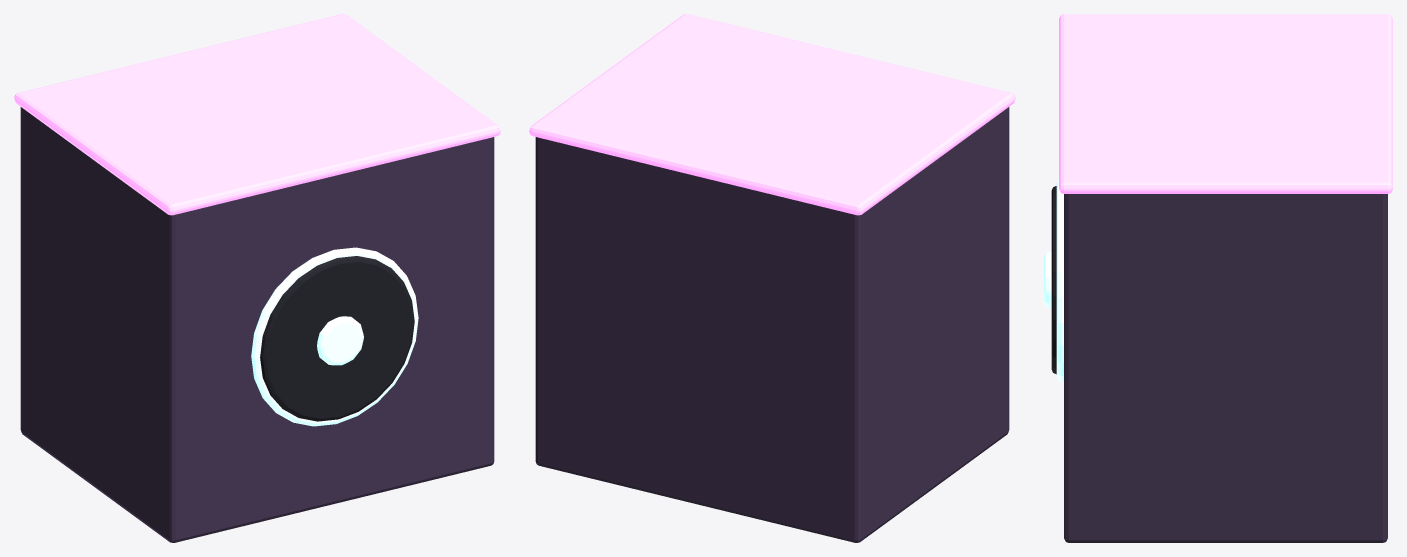
Rendered from subwoofer.glb.
3 renders of one model, left to right at view 1: azimuth 30°, elevation 25°; view 2: azimuth 150°, elevation 25°; view 3: azimuth 270°, elevation 25°, orthographic. The views are drawn at different scales.
Visible parts, largest first — view 1: subwoofer; view 2: subwoofer; view 3: subwoofer.
Boxes of the visible parts, bbox=[...] form: subwoofer: bbox=[14, 14, 500, 542]; subwoofer: bbox=[529, 14, 1015, 542]; subwoofer: bbox=[1044, 14, 1392, 542].
Bounding box in the file's own units: 1.64 × 1.61 × 1.4.
